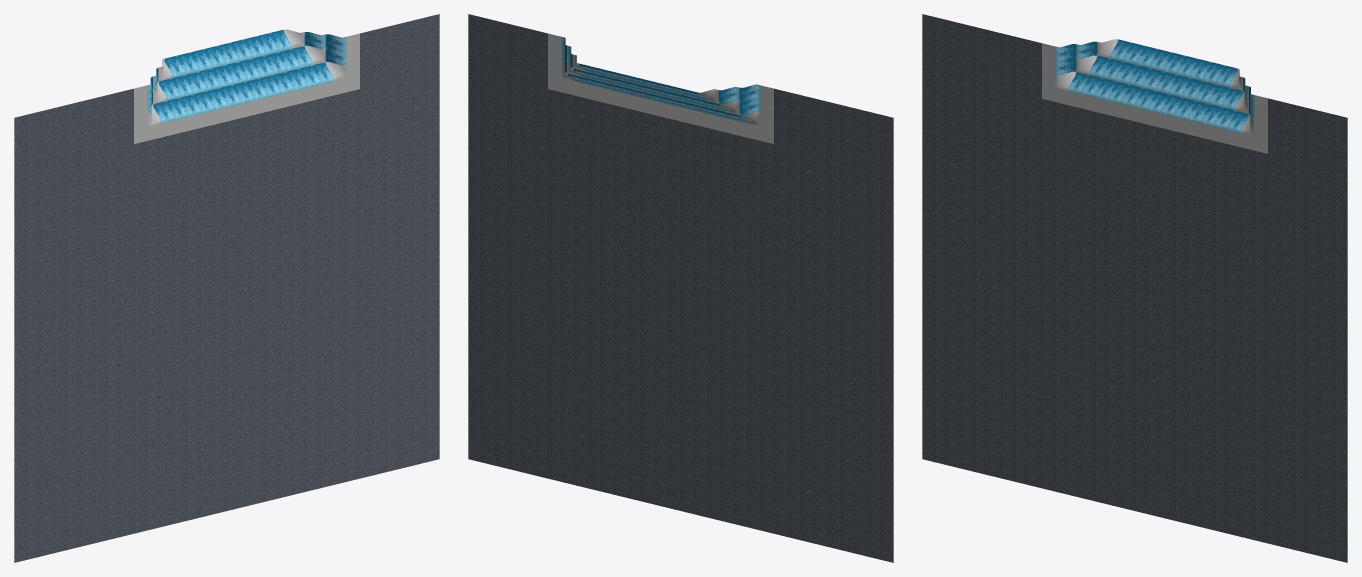
File: Victory-Road-2_00_04.obj
3 views of the same model, side by side, from view 1: azimuth 30°, elevation 25°; view 2: azimuth 150°, elevation 25°; view 3: azimuth 330°, elevation 25° (orthographic).
Parts seen in each view (by area): view 1: map; view 2: map; view 3: map.
Part boxes in pixels (box(x1,y1,x2,y2)): map: box(14, 14, 439, 562); map: box(468, 14, 893, 562); map: box(922, 14, 1347, 562).
Size of the model in its own units: 32 by 32 by 3.
